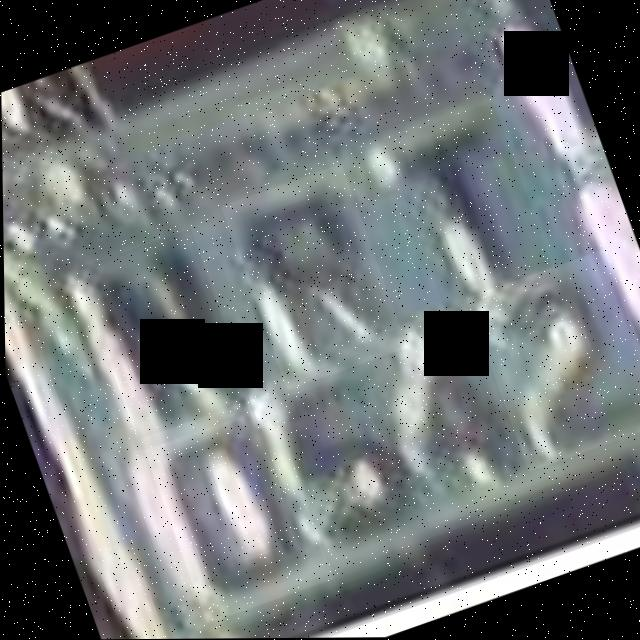0: (138, 394, 333, 624)
2: (464, 249, 640, 472)
4: (360, 291, 564, 528)
5: (245, 347, 436, 559)
N: (77, 228, 255, 450)
P: (220, 163, 407, 390)
T: (383, 101, 555, 314)
